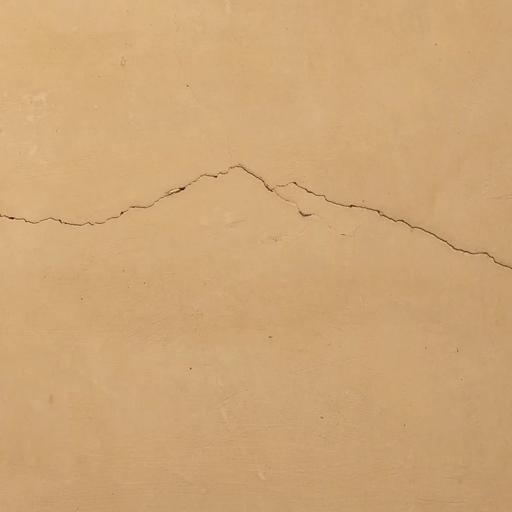minor_crack: (0, 153, 512, 278)
